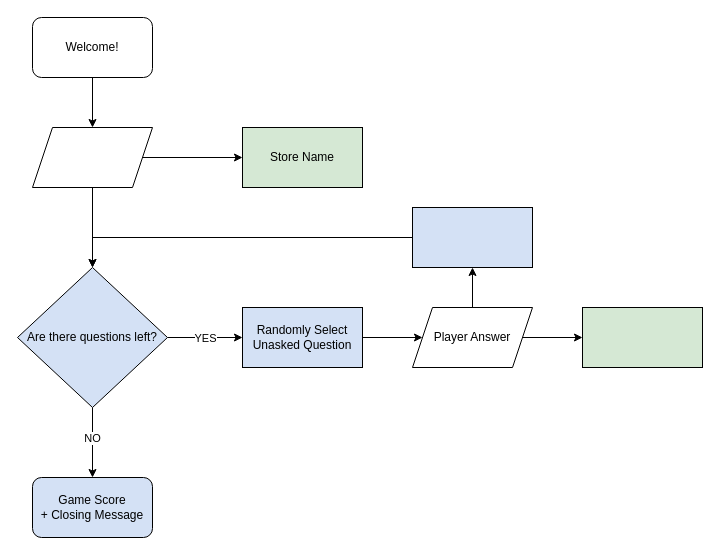
Image size: 720x555. Some labels were removed from this diagram. Each missing label, with the centre of its shape:
"Answer Result" goes at point 472,237.
"Ask Name" goes at point 92,157.
"Update Score" goes at point 642,337.
